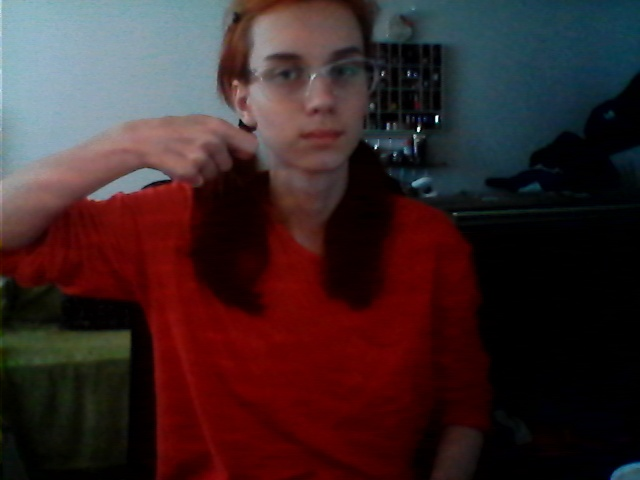jest: (121, 111, 315, 197)
